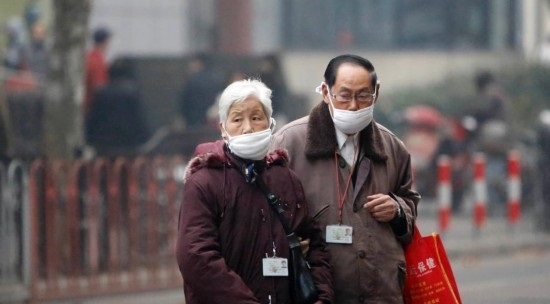face_mask: (225, 101, 272, 156), (333, 73, 376, 132)
